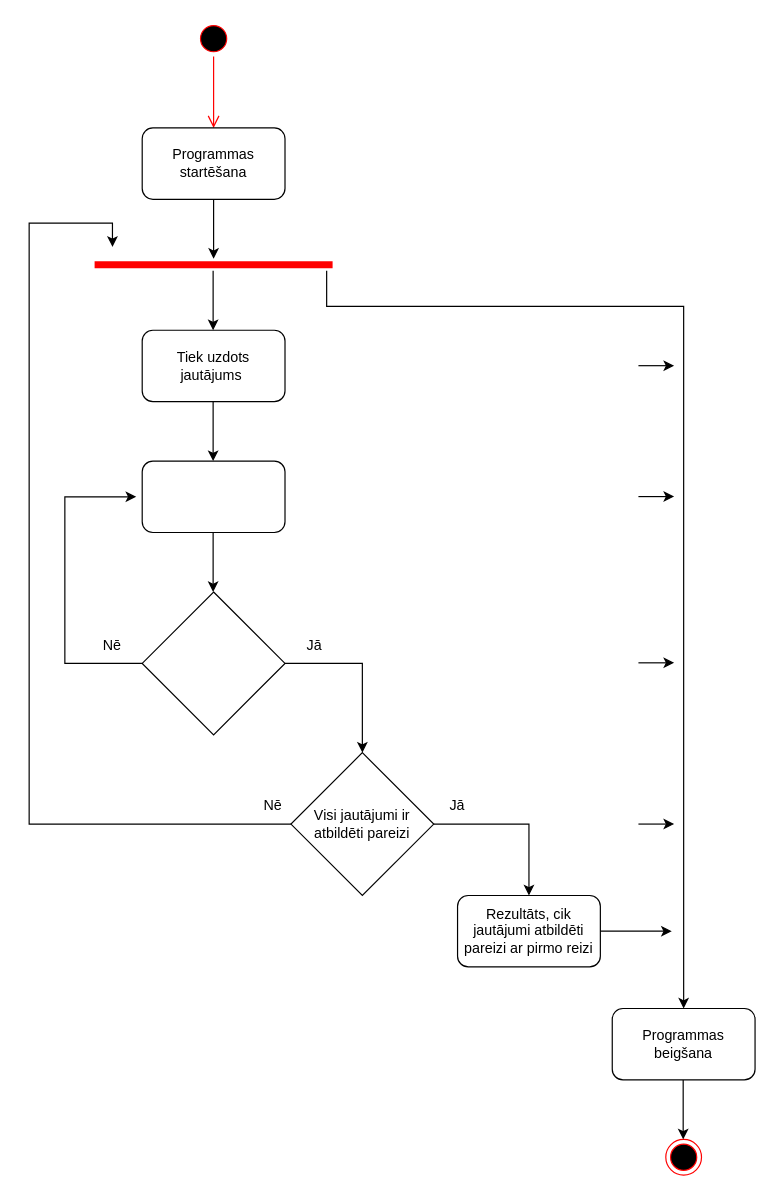
Some shapes in this 776 by 1196 pixel diagram are drawn without their labels. Here are the shapes that lost their labels. From the top down, the centre of each, then its label:
the point at 213,496: Atbild uz jautājumu
the point at 213,663: Izvēlēts pareizais atbilžu variants
